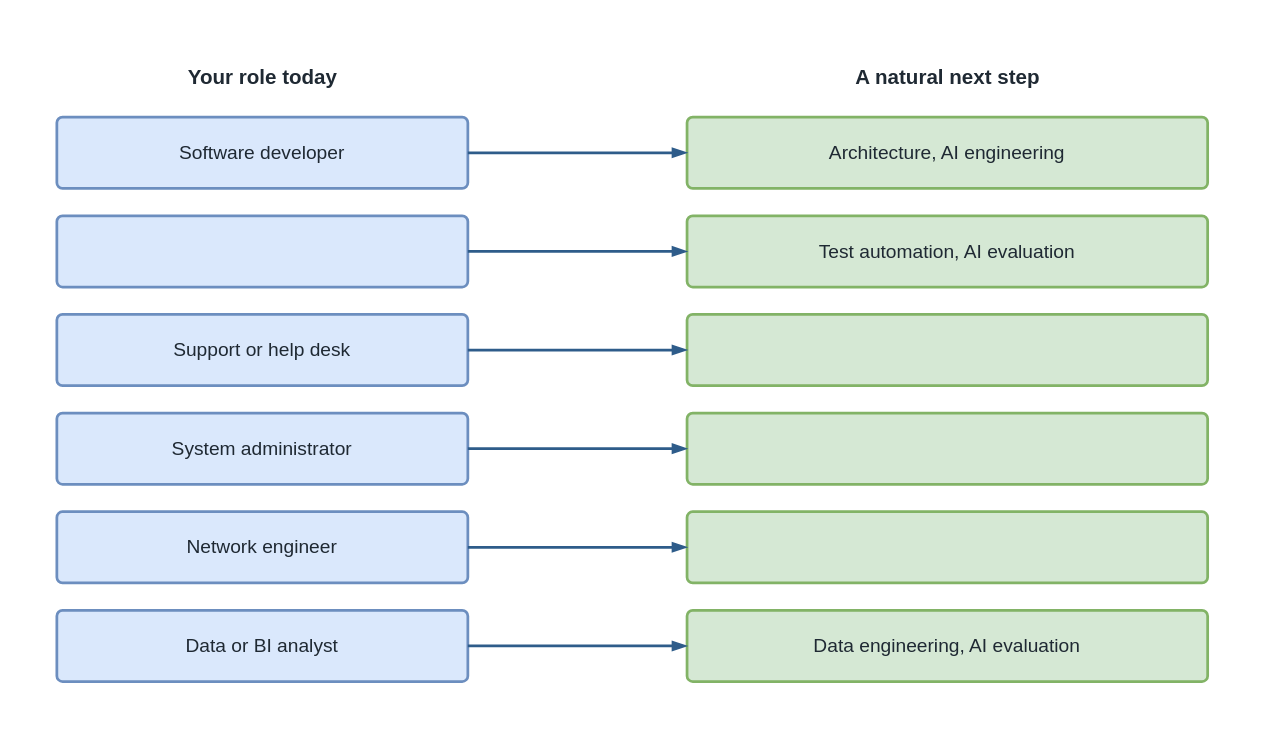
The diagram is 1263 pixels wide and 737 high, and some of its shapes have lost their labels. Here are the shapes that lost their labels. From the top down, the box of each, then its label:
(55, 214, 469, 288): Tester or QA
(685, 312, 1208, 386): Site reliability, cloud operations
(685, 411, 1208, 485): Cloud and platform engineering
(685, 510, 1208, 584): Network automation, security
